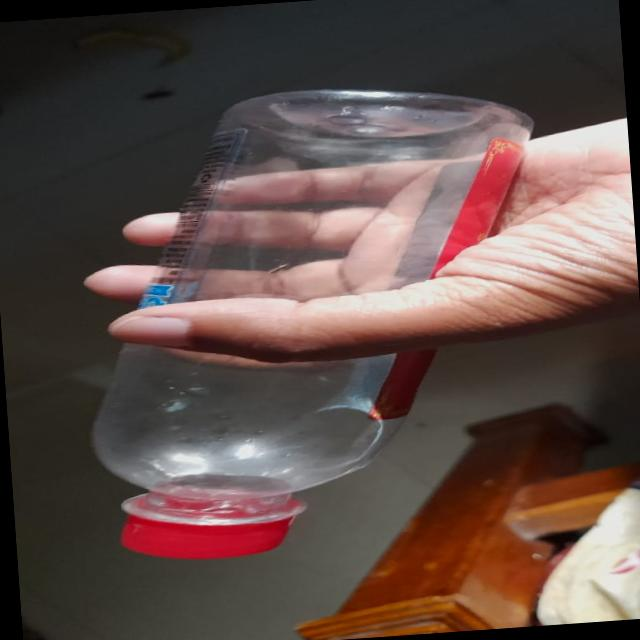Plastic - Recyclable: (62, 72, 563, 568)
